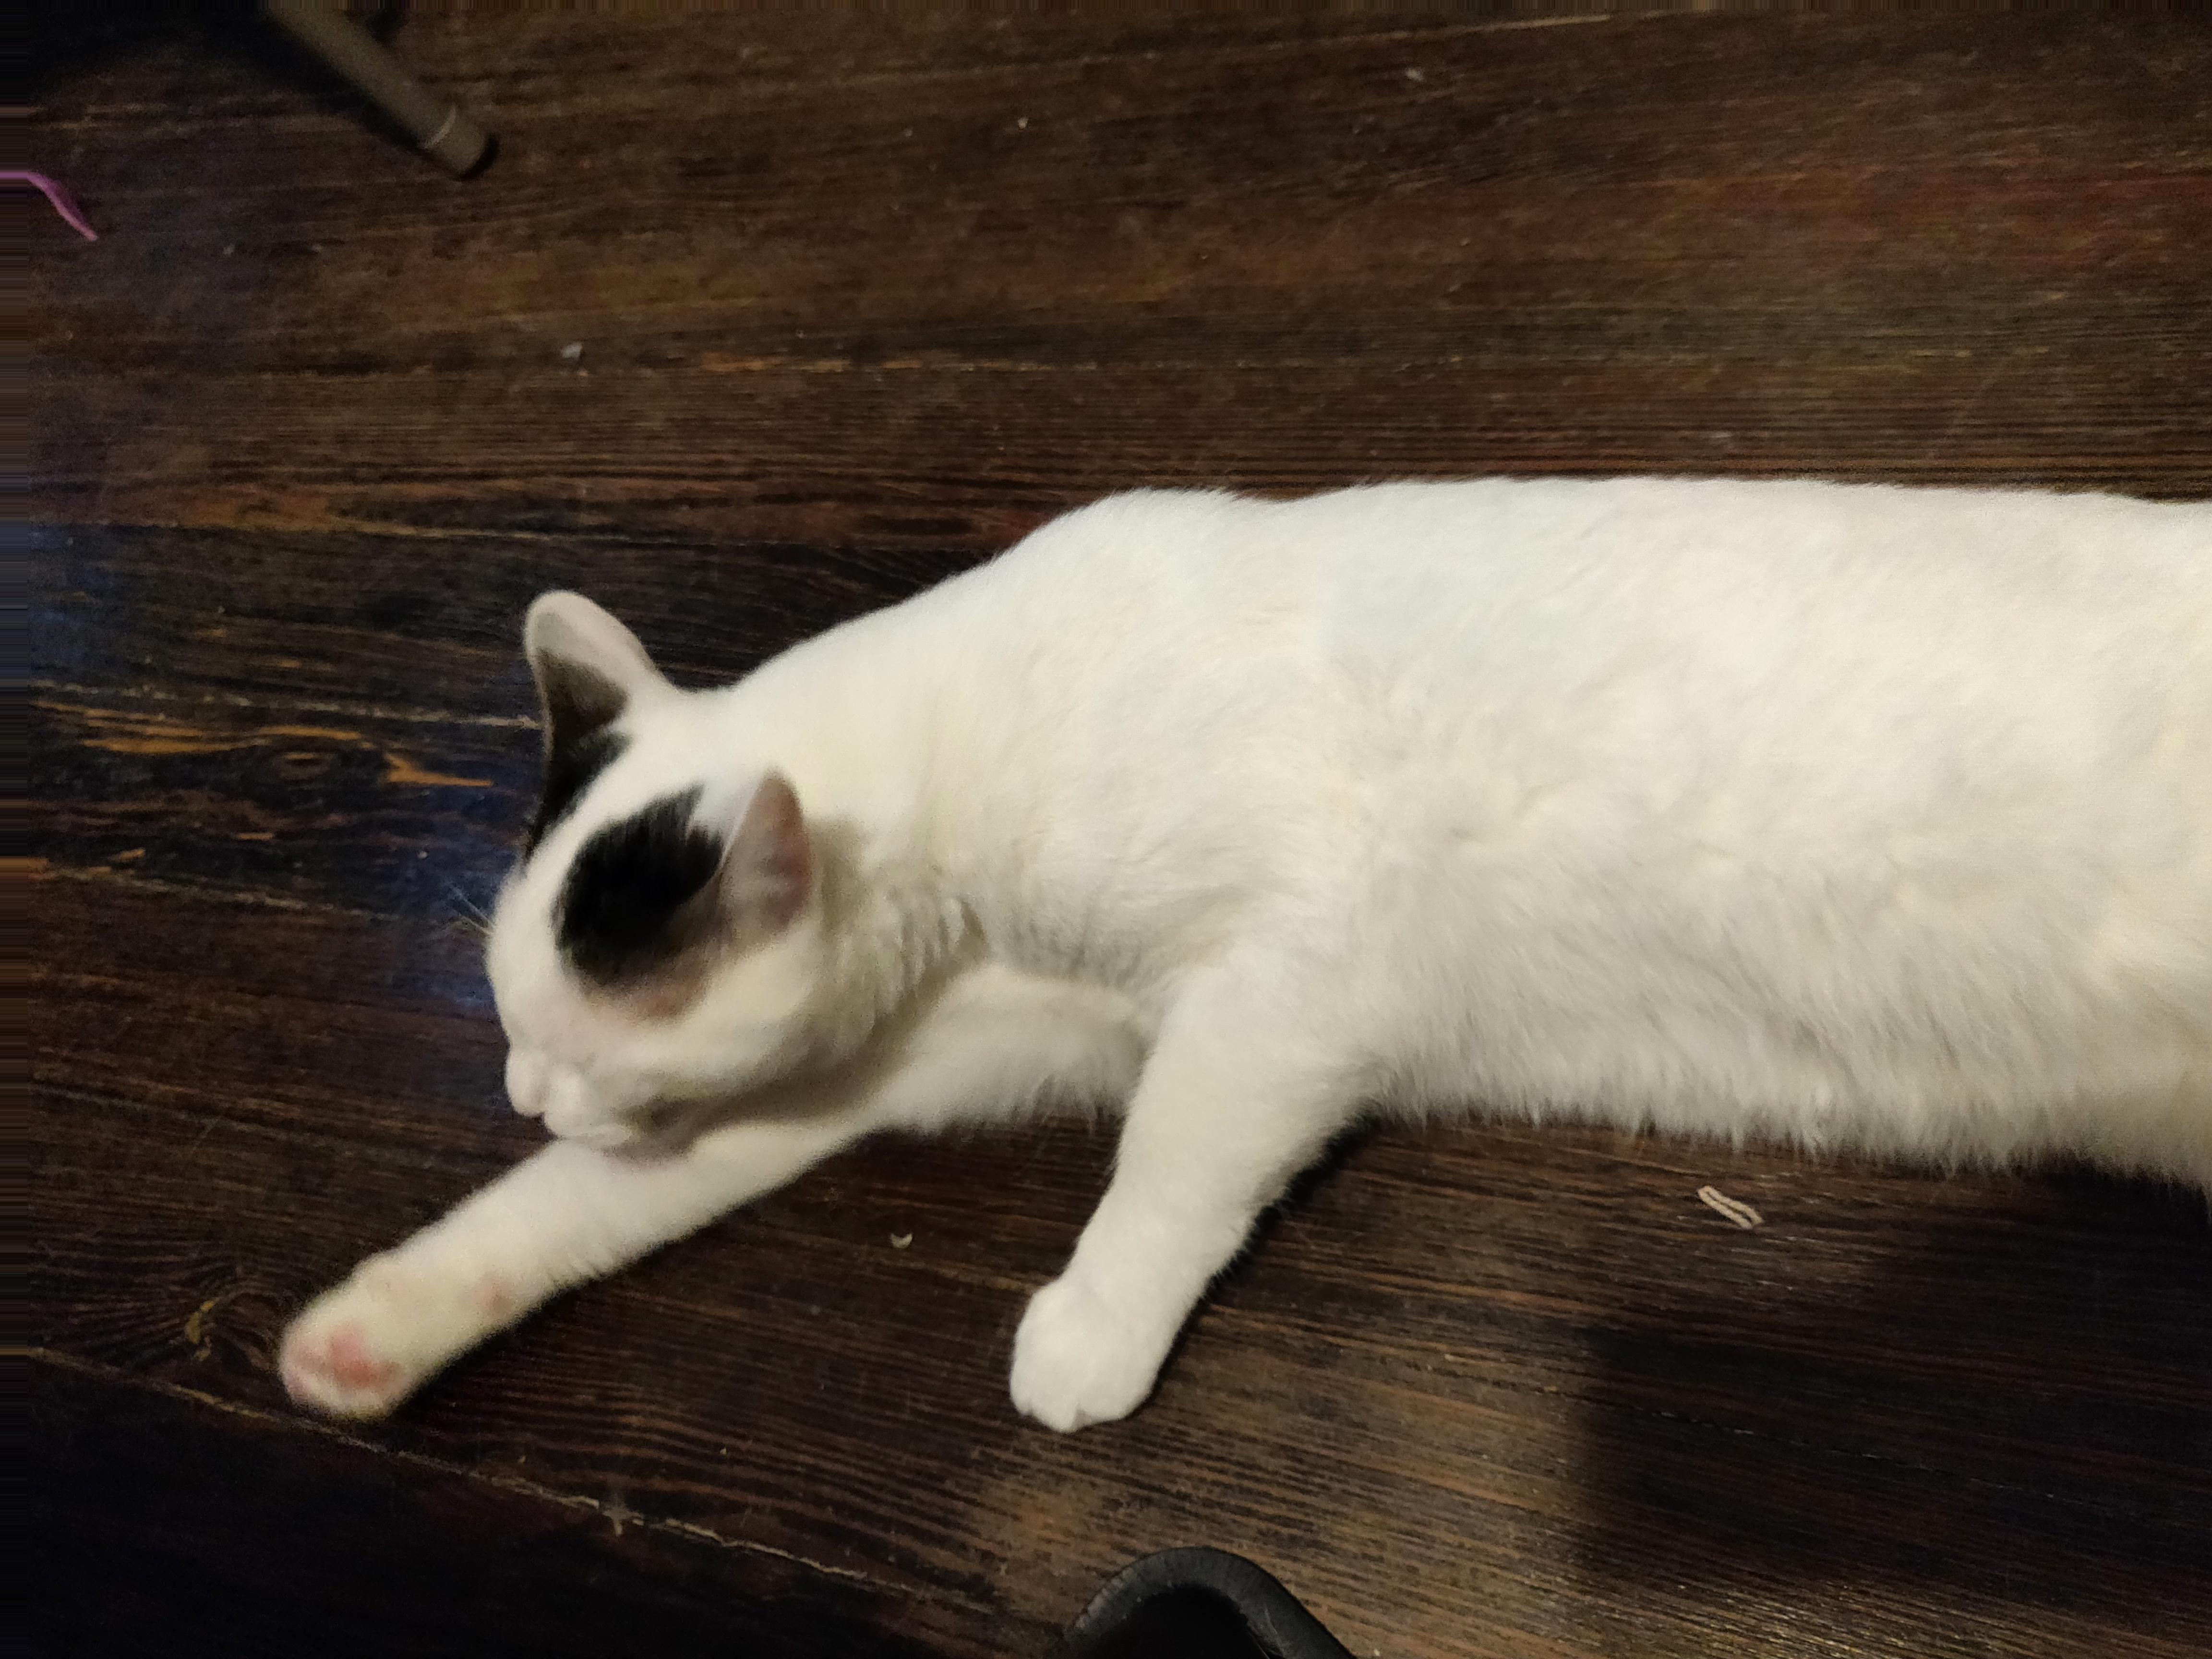cat: (278, 505, 2199, 1399)
